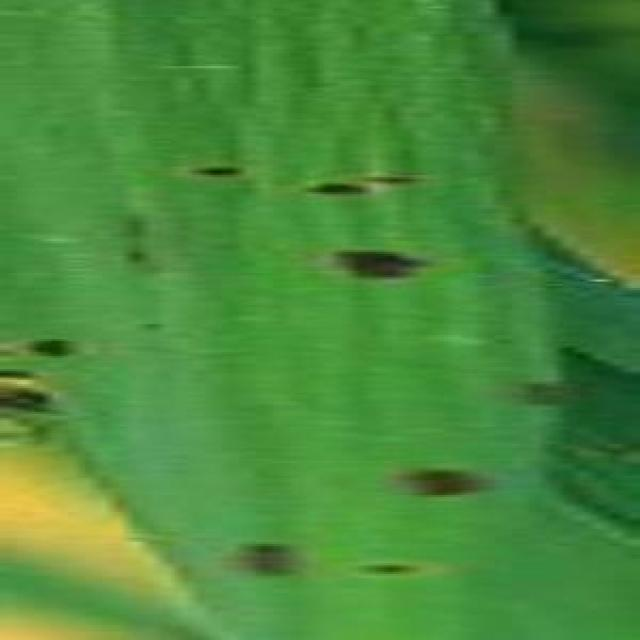Brown_Spot: (382, 452, 487, 504), (323, 240, 429, 289), (344, 559, 444, 587), (238, 538, 298, 583), (184, 160, 258, 184), (27, 332, 76, 366), (299, 178, 370, 198), (367, 168, 418, 186), (126, 247, 153, 272), (133, 318, 164, 339), (126, 218, 142, 240)
